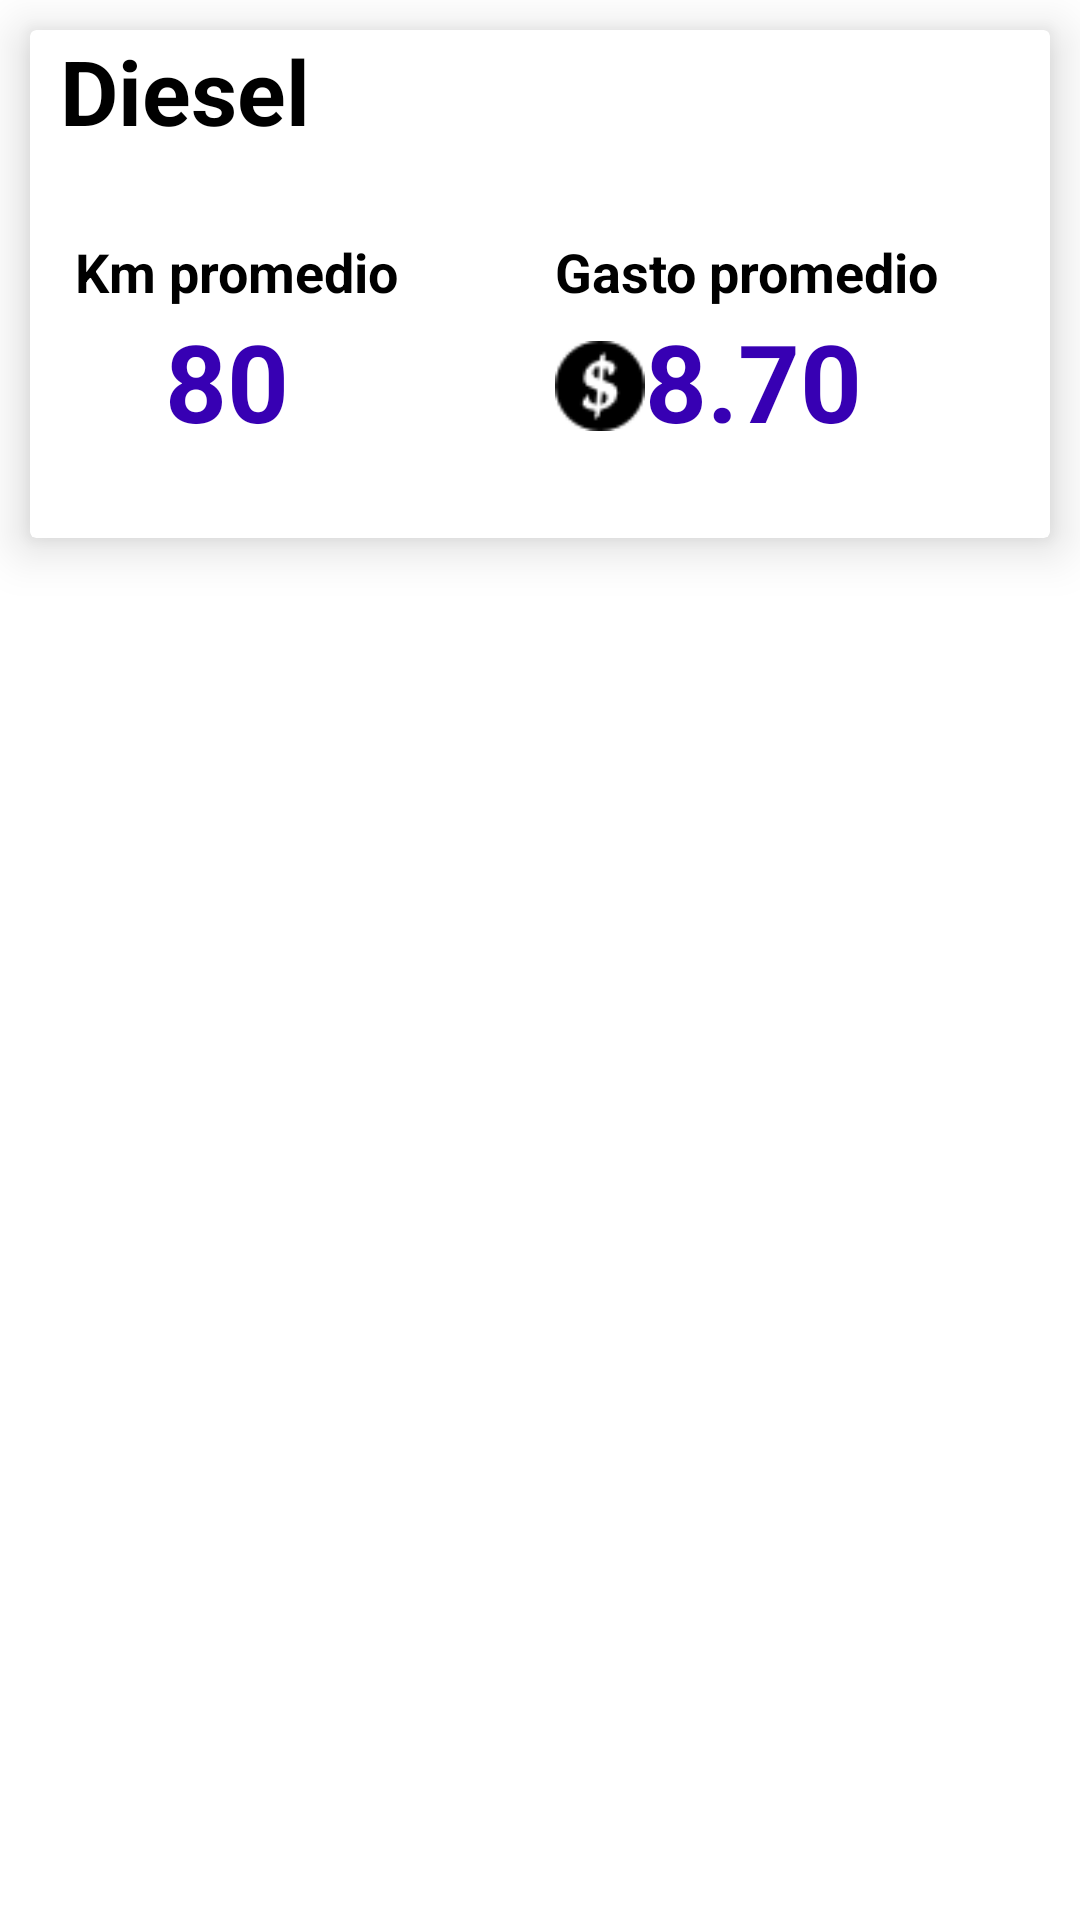

Icon click points for this 1080px x 1920px phone screenshot, format point (x, y):
signo: point (600, 386)
